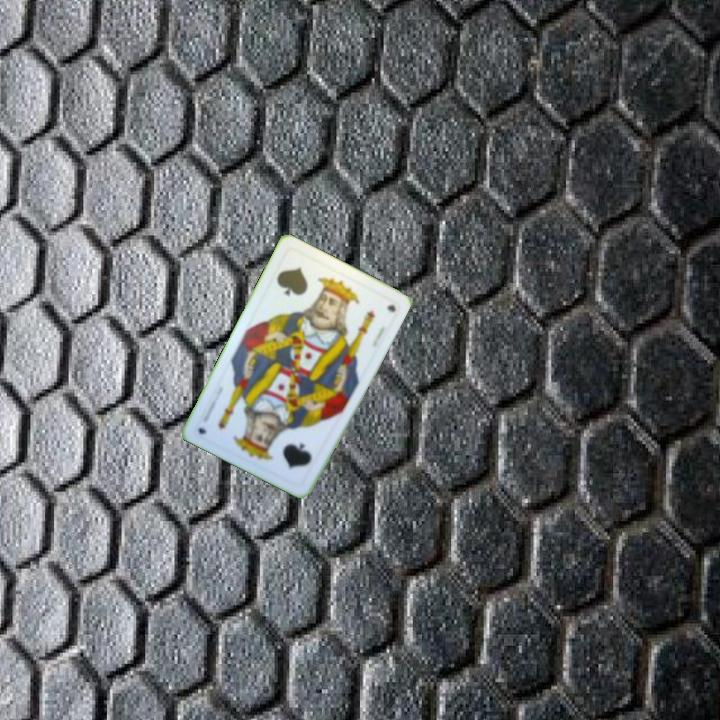s_k.png: (247, 409, 331, 489), (262, 245, 346, 325)
